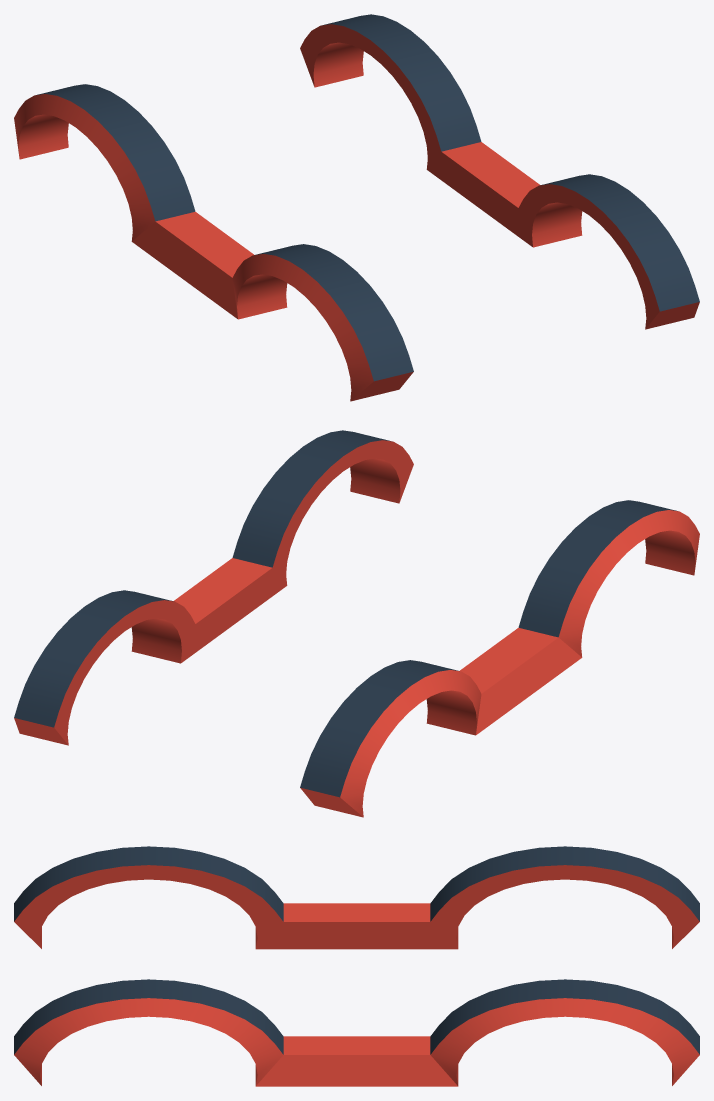
The model's file is duzcamurluk.fbx.
3 views of the same model, one above another, from view 1: azimuth 30°, elevation 25°; view 2: azimuth 150°, elevation 25°; view 3: azimuth 270°, elevation 25° (orthographic). The views are drawn at different scales.
Parts seen in each view (by area): view 1: Cylinder.001; view 2: Cylinder.001; view 3: Cylinder.001.
Part boxes in pixels (box(x1,y1,x2,y2)): Cylinder.001: box(14, 14, 699, 401); Cylinder.001: box(14, 430, 699, 817); Cylinder.001: box(14, 846, 699, 1086).
Bounding box in the file's own units: 2.76 × 0.6771 × 4.99.
1 material, 1 textured.
